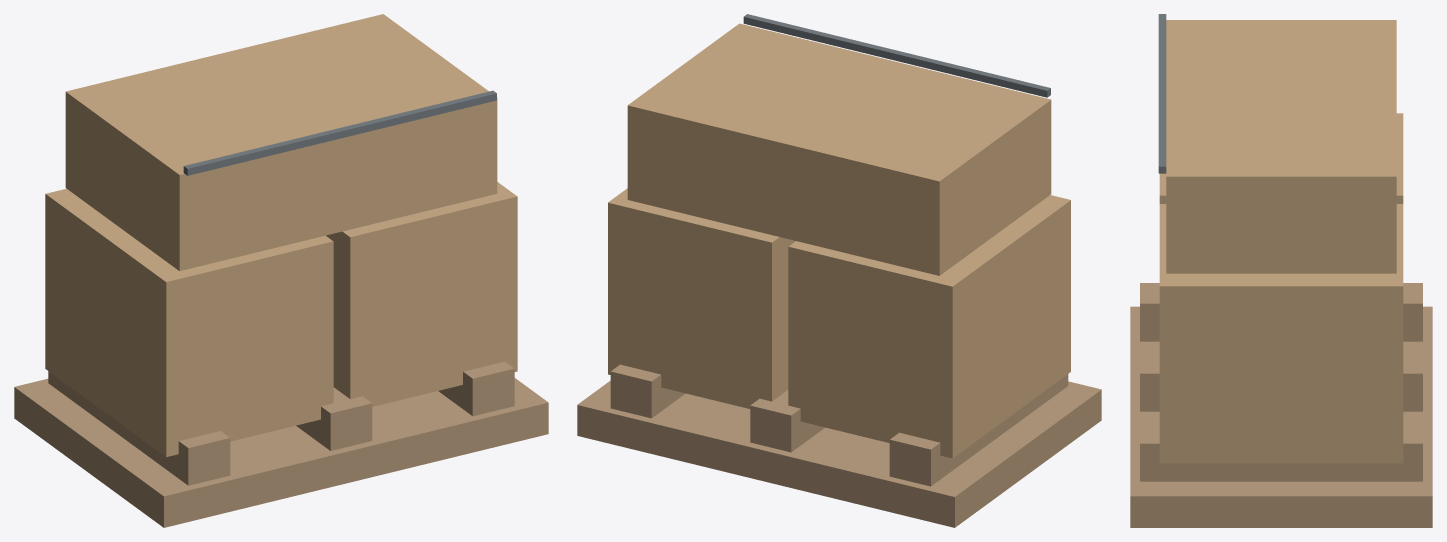
File: pallet_stack_lod1.glb
3 renders of one model, left to right at view 1: azimuth 30°, elevation 25°; view 2: azimuth 150°, elevation 25°; view 3: azimuth 270°, elevation 25°, orthographic. The views are drawn at different scales.
Visible parts, largest first — view 1: pallet-stack-node-6, pallet-stack-node-4, pallet-stack-node-5, pallet-stack-node-0, pallet-stack-node-1, pallet-stack-node-7, pallet-stack-node-2, pallet-stack-node-3; view 2: pallet-stack-node-6, pallet-stack-node-4, pallet-stack-node-5, pallet-stack-node-0, pallet-stack-node-1, pallet-stack-node-7, pallet-stack-node-2, pallet-stack-node-3; view 3: pallet-stack-node-6, pallet-stack-node-5, pallet-stack-node-0, pallet-stack-node-3, pallet-stack-node-1, pallet-stack-node-2, pallet-stack-node-7, pallet-stack-node-4.
Boxes of the visible parts, x1=… form: pallet-stack-node-6: x1=65, y1=14, x2=497, y2=271; pallet-stack-node-4: x1=45, y1=188, x2=333, y2=457; pallet-stack-node-5: x1=326, y1=182, x2=517, y2=406; pallet-stack-node-0: x1=14, y1=378, x2=548, y2=527; pallet-stack-node-1: x1=48, y1=371, x2=230, y2=485; pallet-stack-node-7: x1=183, y1=90, x2=496, y2=175; pallet-stack-node-2: x1=296, y1=387, x2=372, y2=450; pallet-stack-node-3: x1=438, y1=361, x2=514, y2=416; pallet-stack-node-6: x1=627, y1=23, x2=1051, y2=275; pallet-stack-node-4: x1=788, y1=195, x2=1070, y2=458; pallet-stack-node-5: x1=608, y1=188, x2=795, y2=408; pallet-stack-node-0: x1=577, y1=380, x2=1101, y2=527; pallet-stack-node-1: x1=889, y1=374, x2=1068, y2=486; pallet-stack-node-7: x1=743, y1=14, x2=1050, y2=97; pallet-stack-node-2: x1=750, y1=390, x2=824, y2=452; pallet-stack-node-3: x1=610, y1=364, x2=685, y2=418; pallet-stack-node-6: x1=1166, y1=20, x2=1396, y2=273; pallet-stack-node-5: x1=1159, y1=204, x2=1403, y2=463; pallet-stack-node-0: x1=1130, y1=306, x2=1432, y2=527; pallet-stack-node-3: x1=1140, y1=423, x2=1422, y2=481; pallet-stack-node-1: x1=1140, y1=283, x2=1422, y2=341; pallet-stack-node-2: x1=1140, y1=353, x2=1422, y2=411; pallet-stack-node-7: x1=1158, y1=14, x2=1166, y2=173; pallet-stack-node-4: x1=1159, y1=113, x2=1403, y2=203.
Size of the model in its own units: 2.3 by 1.94 by 1.55.
